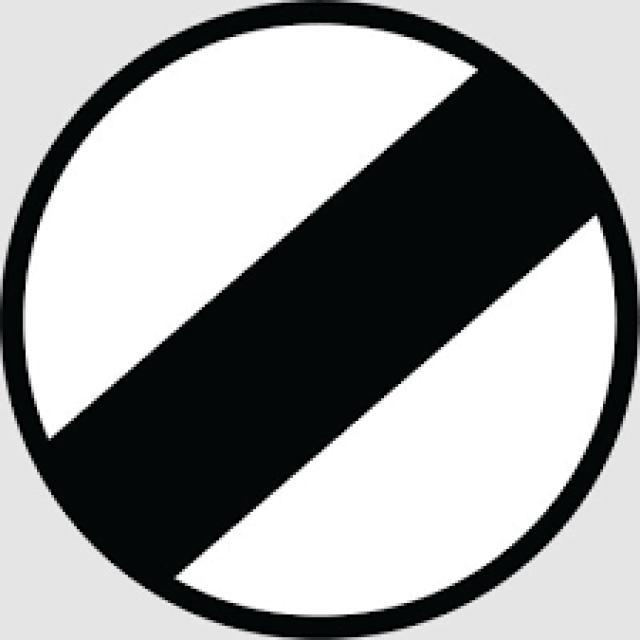restriction ends: (19, 20, 615, 617)
